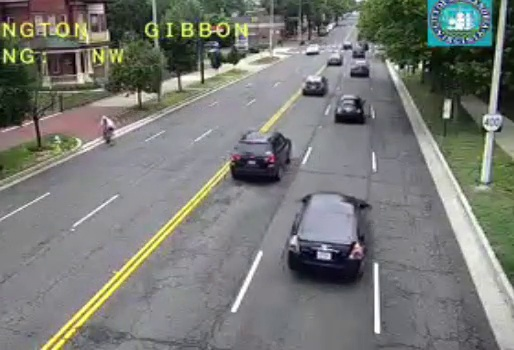car: (290, 193, 366, 278), (230, 131, 290, 177), (335, 95, 365, 119), (302, 75, 326, 96)
